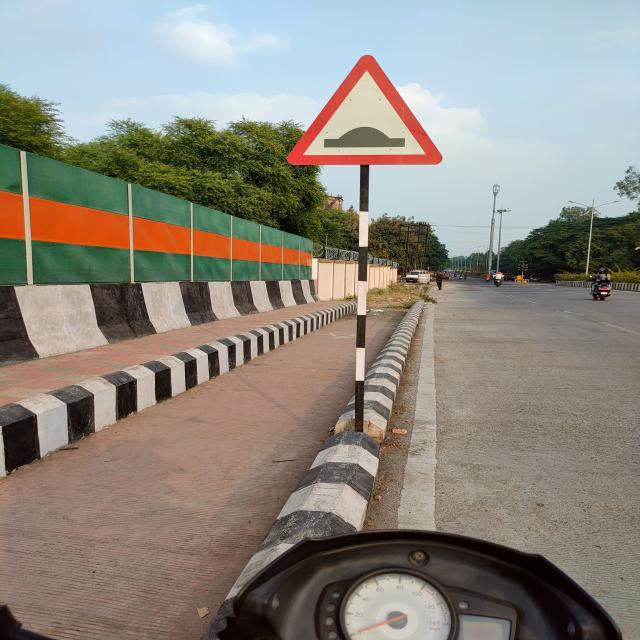hump or rough road: (286, 53, 443, 165)
